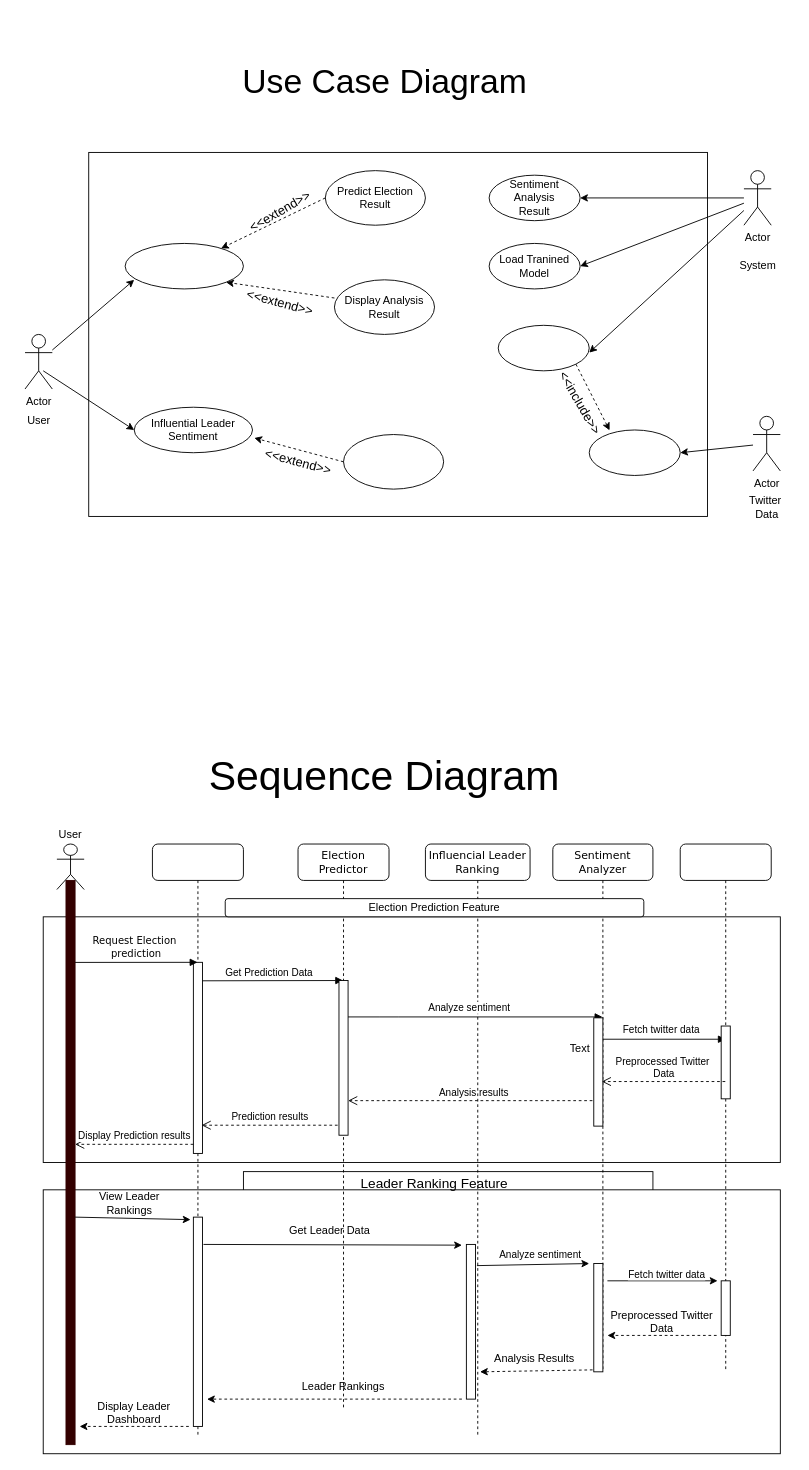
This 809x1470 diagram has some shape labels left out. The centre of each missing label's shape, as x and y in pixels:
Dashboard Frontend: pixel 197 1139
Database: pixel 725 1107
Election Sentiment: pixel 183 266
Perform Sentiment Analysis: pixel 543 347
Retrieve Tweets: pixel 634 452
Show Rankings: pixel 393 461
